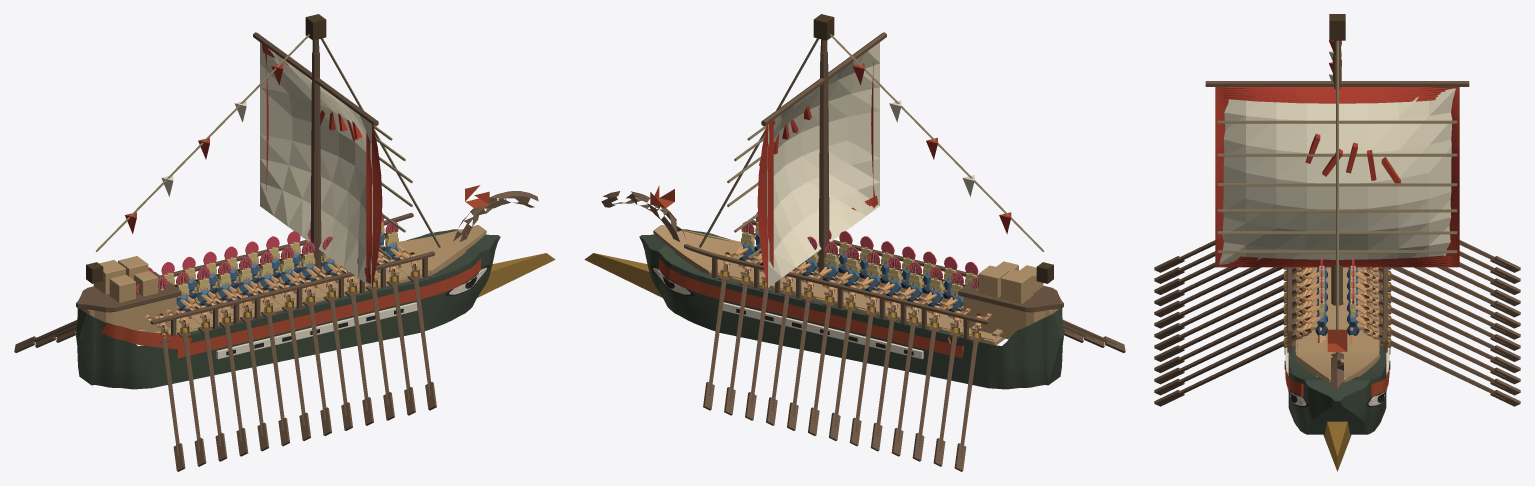
The model's file is warship-battle-v8.glb.
The picture shows the model from 3 angles, left to right: view 1: azimuth 30°, elevation 25°; view 2: azimuth 150°, elevation 25°; view 3: azimuth 270°, elevation 25°; orthographic projection. The views are drawn at different scales.
Visible parts, largest first — view 1: sail, hull-low, n27, mast, n295, Bow transfer deck, n281, n253, n283, n31, hull-prow, n29 (+5 smaller); view 2: sail, hull-low, n3, mast, n293, n281, Bow transfer deck, n233, n7, n283, hull-prow, n273 (+7 smaller); view 3: sail, hull-low, n297, n299, n293, n295, n289, Bow transfer deck, n301, n303, n305, n307 (+29 smaller).
Boxes of the visible parts, x1,y1,x2,y2 form: sail: [260, 42, 372, 287]; hull-low: [76, 229, 500, 389]; n27: [176, 258, 480, 358]; mast: [310, 52, 321, 276]; n295: [366, 125, 382, 285]; Bow transfer deck: [397, 225, 486, 274]; n281: [81, 297, 176, 332]; n253: [150, 251, 434, 324]; n283: [76, 271, 181, 312]; n31: [216, 302, 417, 358]; hull-prow: [477, 253, 555, 297]; n29: [101, 322, 191, 348]; sail: [767, 42, 879, 287]; hull-low: [639, 229, 1063, 389]; n3: [659, 258, 963, 358]; mast: [818, 52, 829, 278]; n293: [757, 120, 773, 285]; n281: [963, 297, 1058, 339]; Bow transfer deck: [653, 225, 742, 274]; n233: [684, 244, 989, 324]; n7: [722, 302, 923, 358]; n283: [958, 276, 1063, 312]; hull-prow: [584, 253, 662, 297]; n273: [1001, 269, 1033, 304]; sail: [1219, 88, 1455, 264]; hull-low: [1288, 285, 1386, 434]; n297: [1223, 87, 1454, 103]; n299: [1215, 255, 1451, 267]; n293: [1446, 87, 1459, 267]; n295: [1215, 87, 1228, 266]; n289: [1205, 81, 1469, 86]; Bow transfer deck: [1294, 354, 1380, 381]; n301: [1217, 250, 1457, 253]; n303: [1217, 231, 1457, 234]; n305: [1217, 209, 1457, 212]; n307: [1217, 183, 1457, 186].
Bounding box in the file's own units: 6.16 × 4.2 × 3.75.
